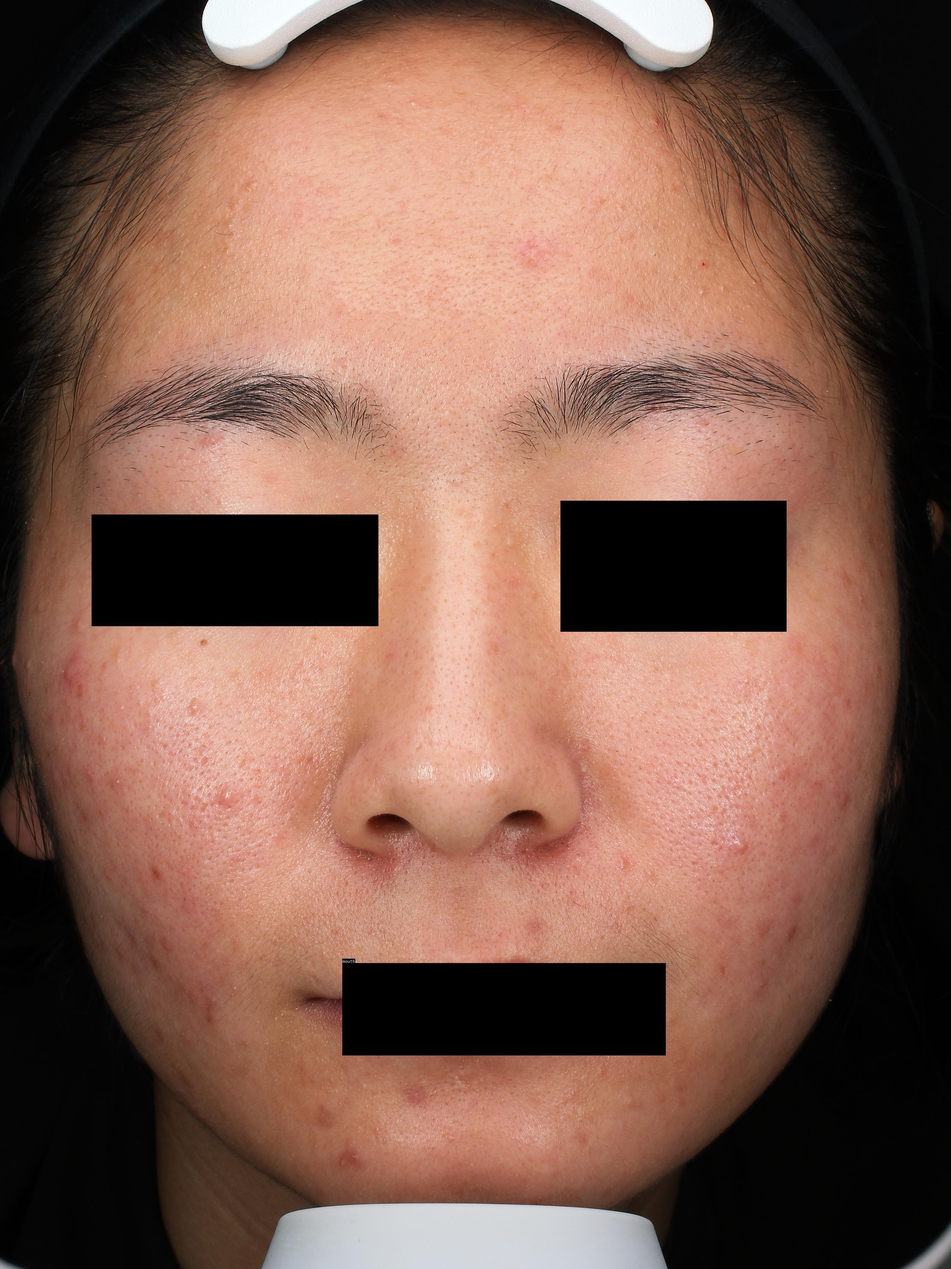atrophic_scar: (330, 359, 346, 391), (308, 974, 328, 991), (460, 1073, 475, 1092), (778, 765, 793, 783), (148, 865, 161, 881), (196, 802, 209, 816), (413, 741, 425, 753), (156, 810, 167, 820), (200, 755, 208, 768), (720, 966, 728, 977), (198, 744, 205, 755), (709, 841, 720, 848), (179, 800, 189, 807)
closed_comedo: (621, 1095, 634, 1107), (224, 241, 234, 255), (506, 537, 517, 549), (245, 181, 258, 191), (448, 475, 461, 485), (408, 100, 418, 110), (226, 219, 236, 229), (384, 80, 394, 90), (615, 204, 626, 213), (652, 164, 663, 173), (646, 869, 654, 878), (595, 196, 603, 205), (375, 588, 383, 597), (719, 284, 726, 294), (742, 676, 750, 684), (275, 149, 284, 156), (231, 182, 239, 189), (465, 462, 471, 470), (321, 950, 327, 958), (101, 735, 107, 742), (139, 242, 145, 249), (335, 719, 343, 724), (115, 659, 122, 664), (752, 279, 757, 286), (474, 139, 479, 145), (361, 1084, 367, 1089), (747, 302, 752, 308), (138, 700, 144, 704), (119, 706, 124, 710), (730, 631, 734, 636), (211, 999, 215, 1003), (375, 1128, 379, 1132), (571, 1091, 574, 1095), (592, 1107, 595, 1111), (231, 993, 234, 996)
hypertrophic_scar: (450, 1075, 469, 1092)
melasma: (804, 586, 824, 606), (137, 613, 151, 630), (108, 644, 121, 657), (783, 573, 792, 582)
nevus: (197, 638, 208, 647)
open_comedo: (574, 851, 583, 859), (652, 248, 659, 258), (522, 108, 528, 113)
other: (700, 261, 707, 267)
papule: (62, 648, 85, 686), (217, 785, 245, 806), (340, 1148, 366, 1167), (728, 835, 748, 857), (185, 697, 205, 717), (521, 247, 540, 266), (199, 430, 220, 447), (108, 773, 125, 792), (614, 851, 629, 872), (184, 988, 201, 1003), (84, 766, 97, 780), (161, 938, 175, 951), (786, 926, 797, 941), (50, 769, 60, 785), (695, 285, 706, 297), (103, 868, 113, 881), (74, 617, 84, 629), (11, 650, 17, 669), (70, 830, 77, 846), (757, 980, 768, 990), (579, 766, 589, 776), (24, 660, 32, 671), (652, 118, 661, 126), (841, 795, 848, 804), (878, 569, 882, 578)
pustule: (231, 985, 238, 991)
